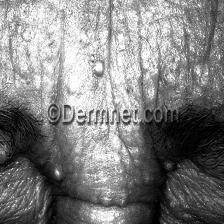Benign Marking or Mole: (102, 133, 222, 224), (46, 141, 72, 186), (88, 54, 113, 83), (0, 141, 14, 168)
